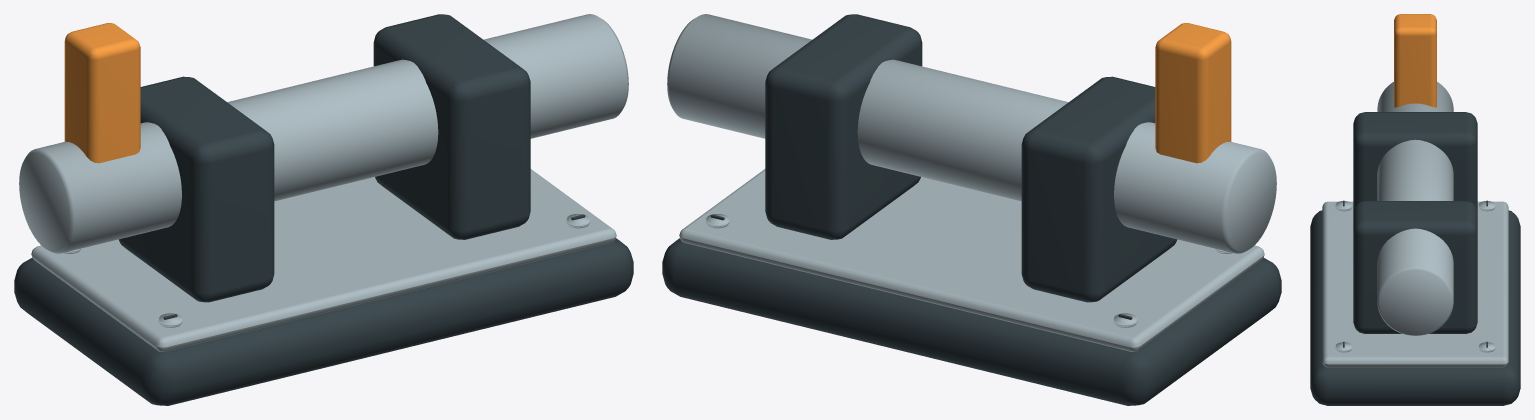
File: bolt.glb
The picture shows the model from 3 angles, left to right: view 1: azimuth 30°, elevation 25°; view 2: azimuth 150°, elevation 25°; view 3: azimuth 270°, elevation 25°; orthographic projection. The views are drawn at different scales.
Visible parts, largest first — view 1: slidingBolt, Satin upper panel, Machined plinth, Bolt guide.001, Bolt guide, boltHandle; view 2: slidingBolt, Satin upper panel, Machined plinth, Bolt guide.001, Bolt guide, boltHandle; view 3: Satin upper panel, slidingBolt, Machined plinth, Bolt guide.001, Bolt guide, boltHandle.
Part boxes in pixels (x1,y1,x2,y2): slidingBolt: (19,14,628,253); Satin upper panel: (31,169,616,351); Machined plinth: (14,238,633,405); Bolt guide.001: (373,14,530,239); Bolt guide: (118,76,274,302); boltHandle: (64,23,140,163); slidingBolt: (667,14,1276,253); Satin upper panel: (679,169,1264,351); Machined plinth: (662,238,1281,405); Bolt guide.001: (765,14,922,239); Bolt guide: (1021,76,1177,302); boltHandle: (1155,23,1231,163); Satin upper panel: (1322,201,1508,367); slidingBolt: (1377,82,1453,335); Machined plinth: (1310,210,1520,405); Bolt guide.001: (1353,201,1477,333); Bolt guide: (1353,112,1477,211); boltHandle: (1394,14,1436,107).
Size of the model in its own units: 0.48 by 0.267 by 0.22.
